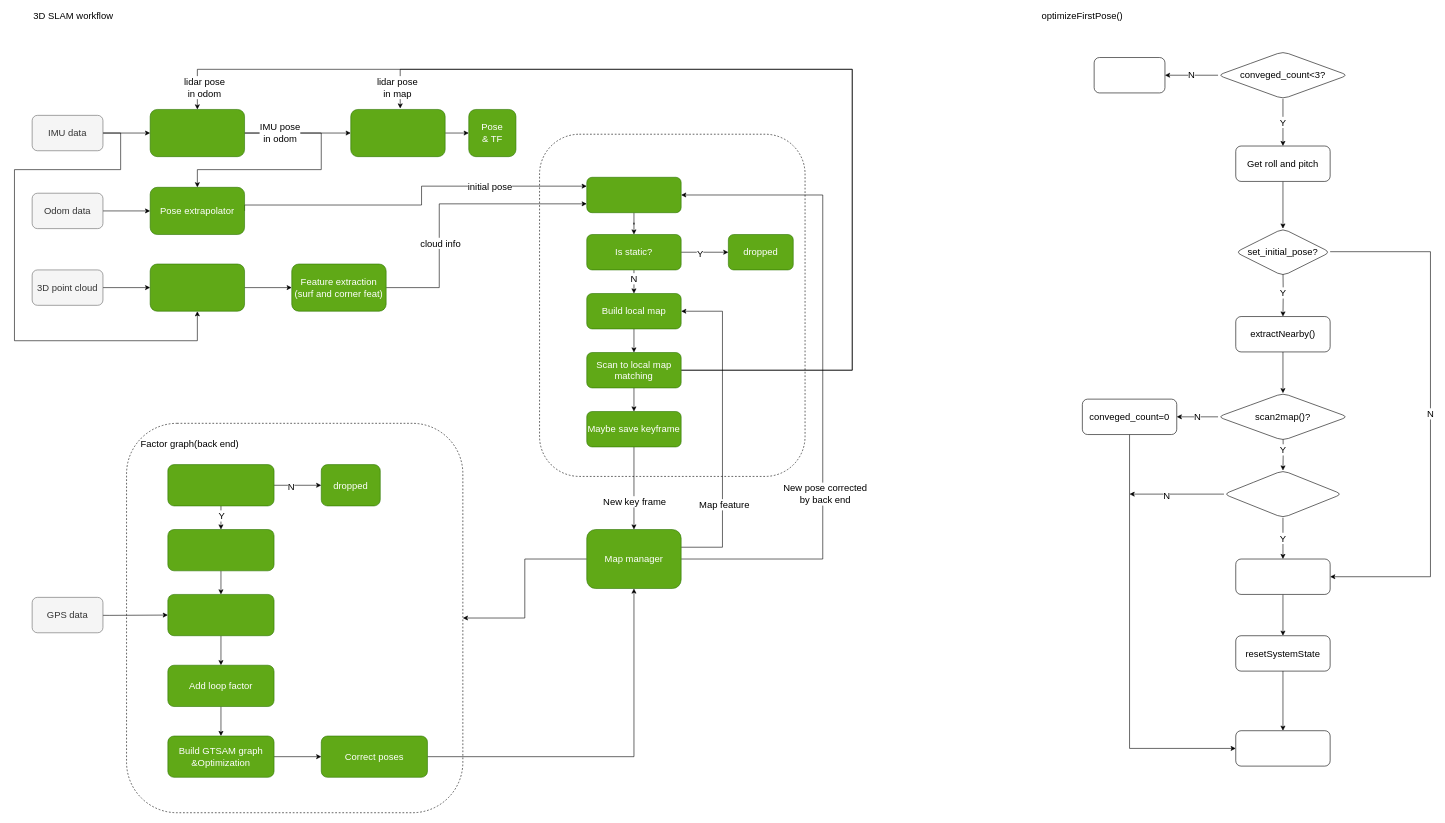
The diagram is 1445 pixels wide and 823 high, and some of its shapes have lost their labels. Each missing label, with the box of its shape:
++conveged_count >=3?: (1223, 470, 1342, 518)
Add gps factor: (167, 594, 274, 636)
Add odom factor: (167, 529, 274, 571)
Image projection (deskew,projection): (150, 263, 245, 311)
IMU preintergration: (150, 109, 245, 157)
Lidar odometry(front end): (539, 134, 805, 476)
New key frame added?: (167, 464, 274, 506)
return false: (1235, 730, 1330, 766)
return true: (1094, 57, 1165, 93)
saveKeyFrame(): (1235, 558, 1330, 594)
Transform fusion: (350, 109, 445, 157)
Update initial pose: (586, 177, 681, 213)
